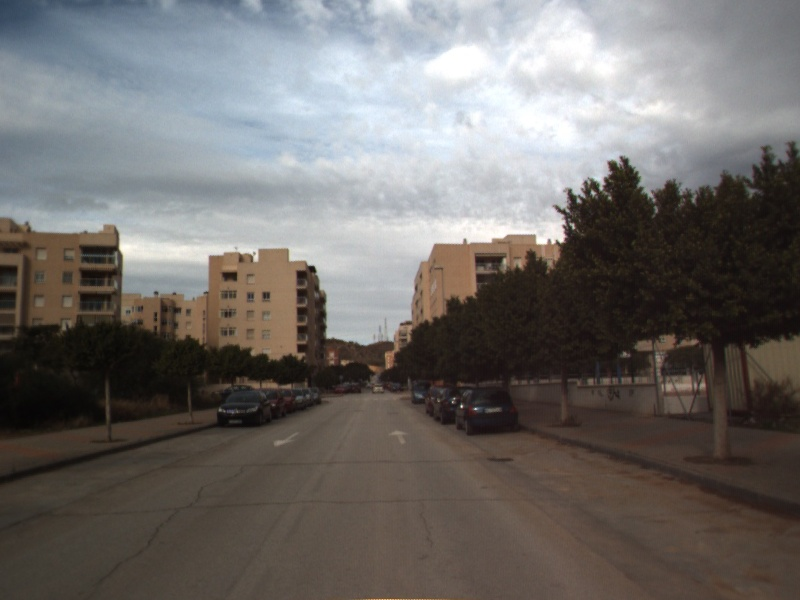STRAIGHT: (386, 428, 412, 446)
